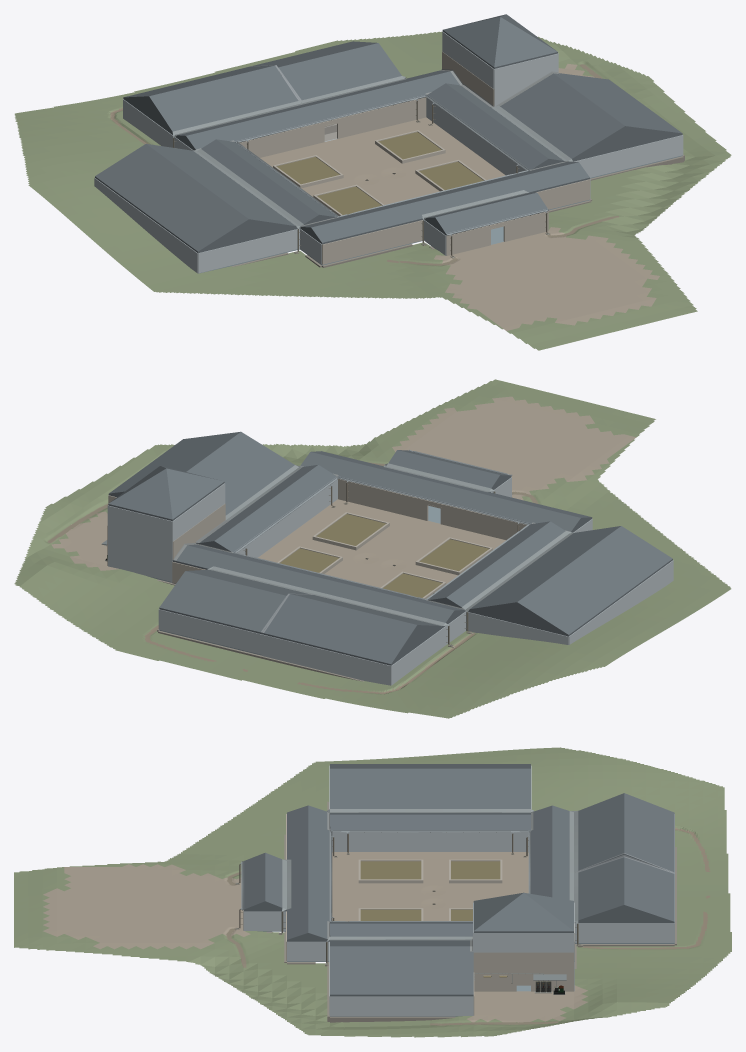
File: monastery-with-north-drainage.glb
The picture shows the model from 3 angles, top to bottom: view 1: azimuth 30°, elevation 25°; view 2: azimuth 150°, elevation 25°; view 3: azimuth 270°, elevation 25°; orthographic projection. The views are drawn at different scales.
Parts seen in each view (by area): view 1: WLD-10 surveyed drainage ground, dormitory roof west, refectory roof west, archive roof south, south-cloister roof south, north-cloister roof south, vestry roof south, dormitory roof east, east-cloister roof west, refectory roof east, west-cloister roof west, Monastery shared gatehouse and south cloister wall inner gat (+32 smaller); view 2: WLD-10 surveyed drainage ground, dormitory roof west, archive roof north, south-cloister roof north, vestry roof north, north-cloister roof north, refectory roof west, dormitory roof east, east-cloister roof west, Wall archive N, Wall tower-base N, west-cloister roof west (+33 smaller); view 3: WLD-10 surveyed drainage ground, dormitory roof east, refectory roof east, Wall west E, west-cloister roof east, archive roof north, archive roof south, Wall refectory E, south-cloister roof north, south-cloister roof south, vestry roof north, vestry roof south (+27 smaller).
Boxes of the visible parts, x1,y1,x2,y2 form: WLD-10 surveyed drainage ground: (14,31,731,350); dormitory roof west: (95,144,248,252); refectory roof west: (500,73,625,159); archive roof south: (149,65,297,132); south-cloister roof south: (311,162,589,244); north-cloister roof south: (186,71,459,149); vestry roof south: (278,43,401,100); dormitory roof east: (146,143,296,227); east-cloister roof west: (427,83,548,170); refectory roof east: (554,73,682,134); west-cloister roof west: (201,139,319,225); Monastery shared gatehouse and south cloister wall inner gat: (322,220,422,264); WLD-10 surveyed drainage ground: (14,379,731,718); dormitory roof west: (517,526,672,636); archive roof north: (262,594,417,665); south-cloister roof north: (300,452,580,532); vestry roof north: (159,571,286,633); north-cloister roof north: (172,545,454,626); refectory roof west: (186,432,294,515); dormitory roof east: (469,526,620,610); east-cloister roof west: (214,465,337,552); Wall archive N: (262,634,391,685); Wall tower-base N: (108,526,172,581); west-cloister roof west: (446,521,565,608); WLD-10 surveyed drainage ground: (14,747,731,1037); dormitory roof east: (330,768,530,808); refectory roof east: (330,946,473,995); Wall west E: (332,832,528,851); west-cloister roof east: (330,814,530,832); archive roof north: (624,793,674,872); archive roof south: (578,793,624,870); Wall refectory E: (330,996,473,1015); south-cloister roof north: (308,805,329,941); south-cloister roof south: (287,805,308,941); vestry roof north: (624,857,674,922); vestry roof south: (578,857,624,921).
Size of the model in its own units: 92 by 16 by 100.
180 materials, 133 textured.
